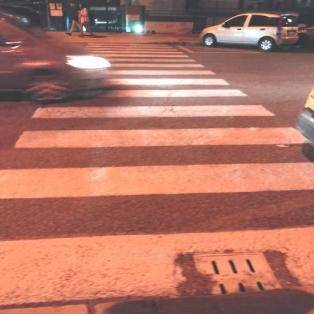Paso de Cebra: (8, 104, 314, 155)
